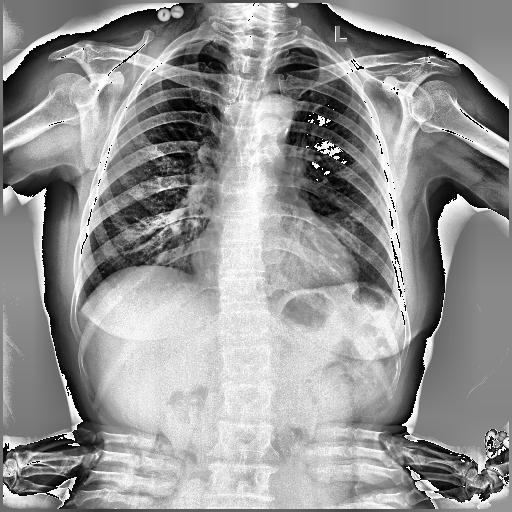0- Aortic enlargement: (259, 94, 294, 139)
11- Pleural thickening: (204, 33, 234, 52)
2- Calcification: (284, 127, 288, 138)
3- Cardiomegaly: (190, 226, 358, 286), (190, 232, 362, 290)
